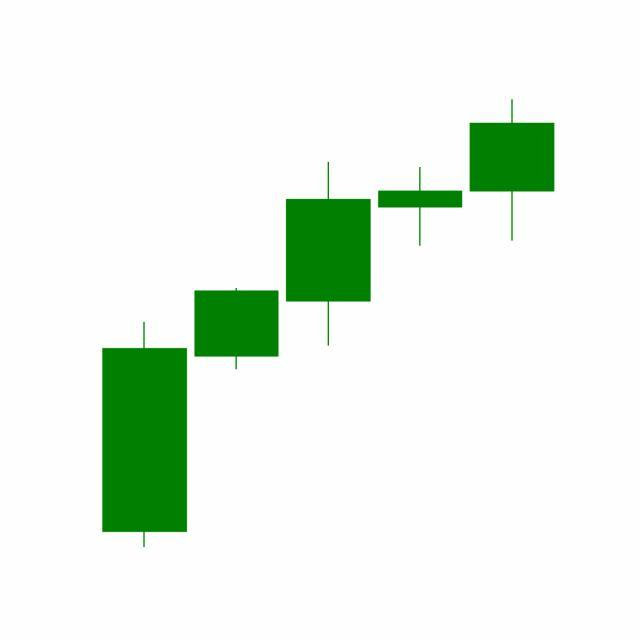Advance Block: (190, 160, 467, 373)
